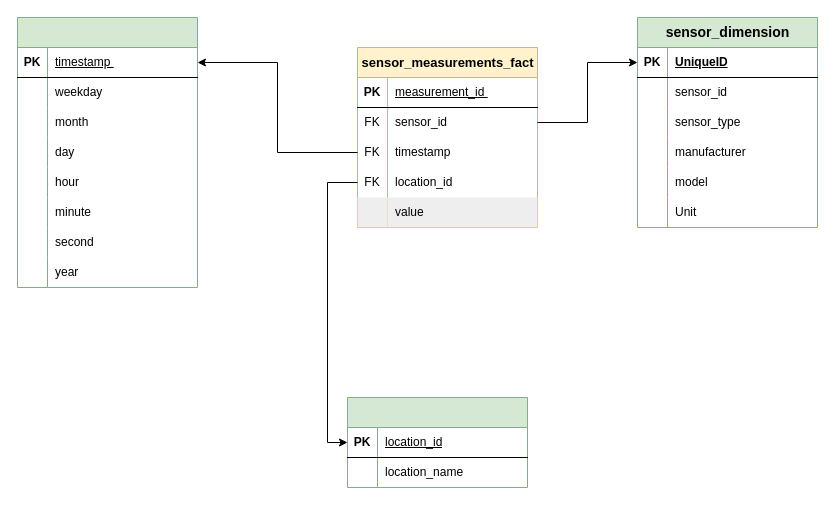
The diagram is 835 pixels wide and 505 high, and some of its shapes have lost their labels. Each missing label, with the box of its shape:
location_dimension: (346, 396, 528, 488)
time_dimension: (16, 16, 198, 288)
